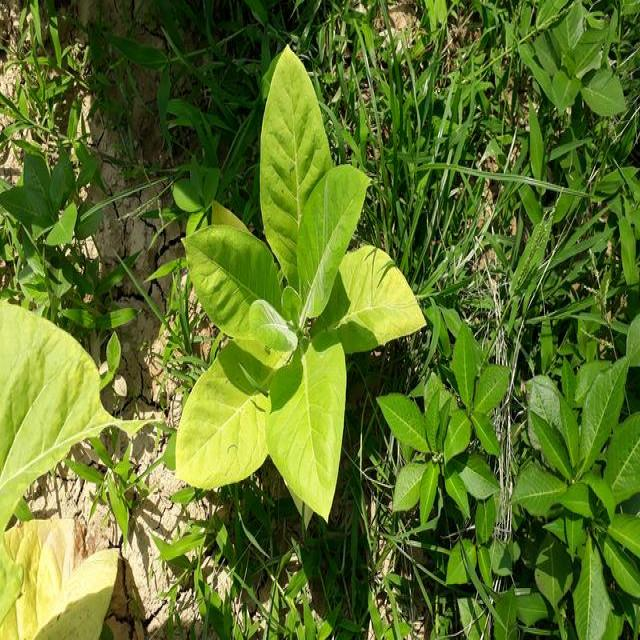crop: (174, 40, 408, 531), (0, 295, 122, 640)
